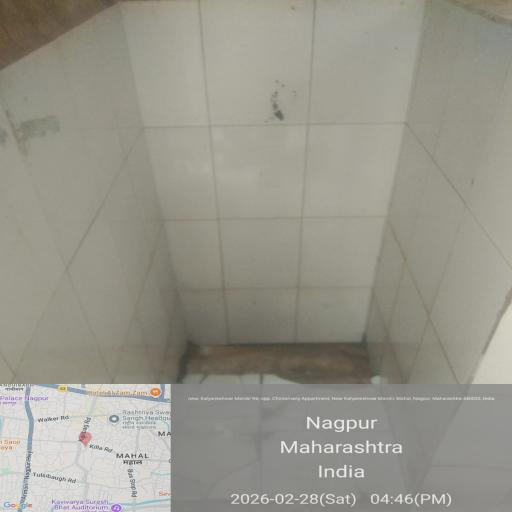clean_floor: (90, 18, 510, 262)
damage: (148, 318, 440, 504)
